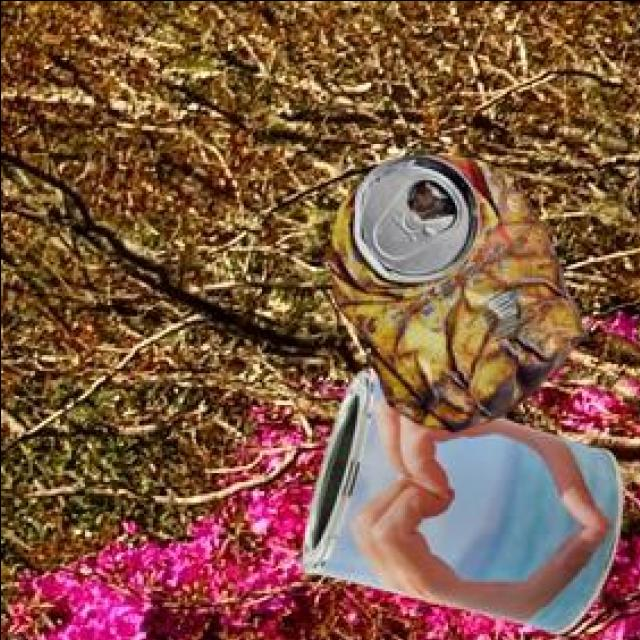logam: (298, 367, 618, 630), (326, 153, 582, 428)
